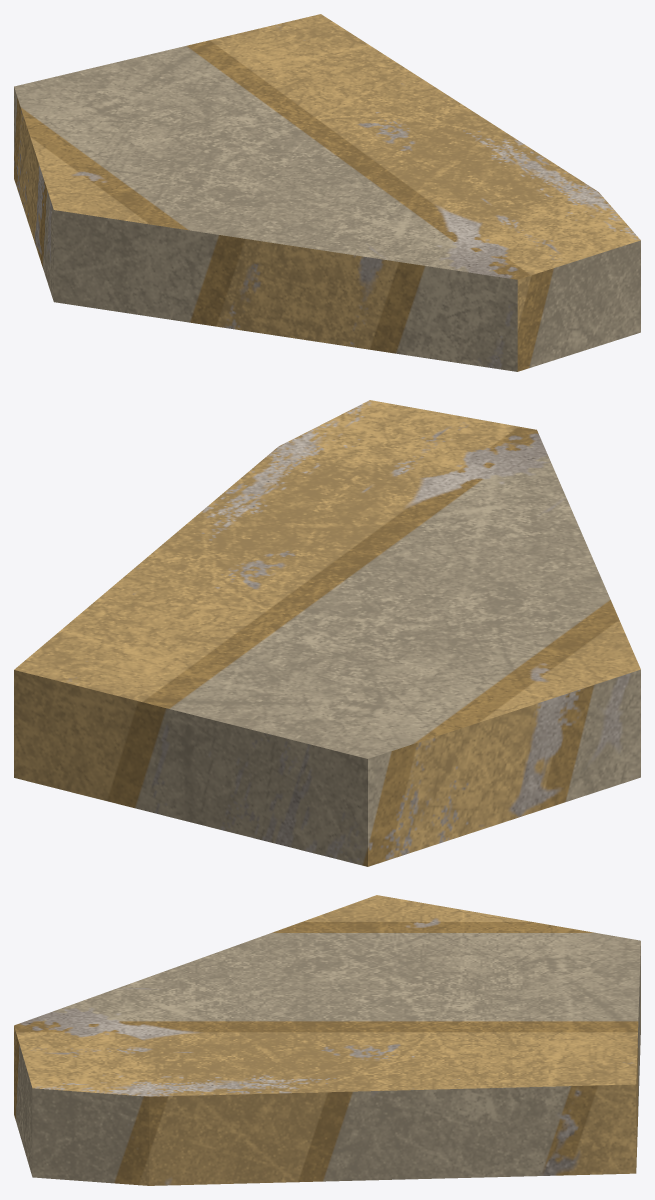
Rendered from SM_Rubbish_02.fbx.
3 views of the same model, one above another, from view 1: azimuth 30°, elevation 25°; view 2: azimuth 150°, elevation 25°; view 3: azimuth 270°, elevation 25° (orthographic). The views are drawn at different scales.
Parts seen in each view (by area): view 1: SM_Rubbish_02; view 2: SM_Rubbish_02; view 3: SM_Rubbish_02.
Part boxes in pixels (x1,y1,x2,y2): SM_Rubbish_02: (14, 14, 640, 371); SM_Rubbish_02: (14, 400, 640, 866); SM_Rubbish_02: (14, 895, 640, 1185).
Bounding box in the file's own units: 46.82 × 9.65 × 61.49.
